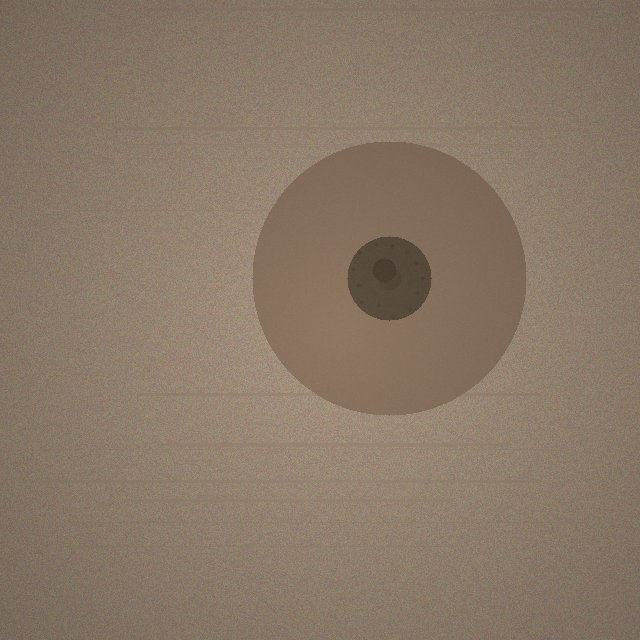cold_weld: (252, 141, 526, 415)
